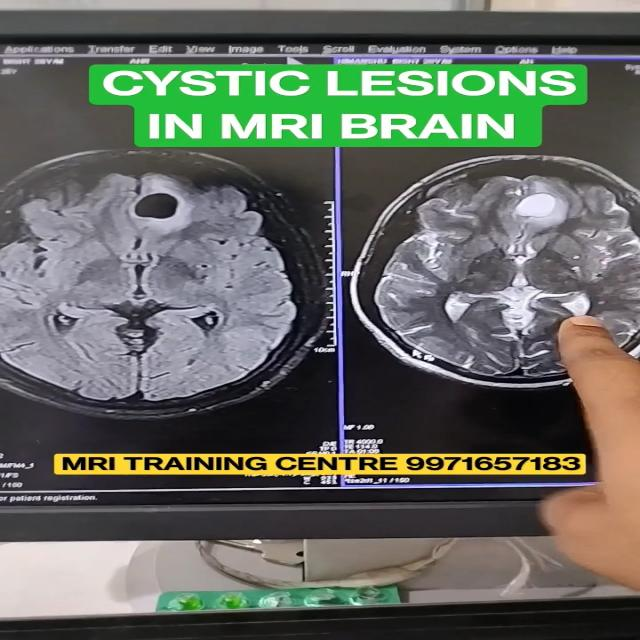tumor: (502, 190, 599, 233), (128, 184, 206, 235)
